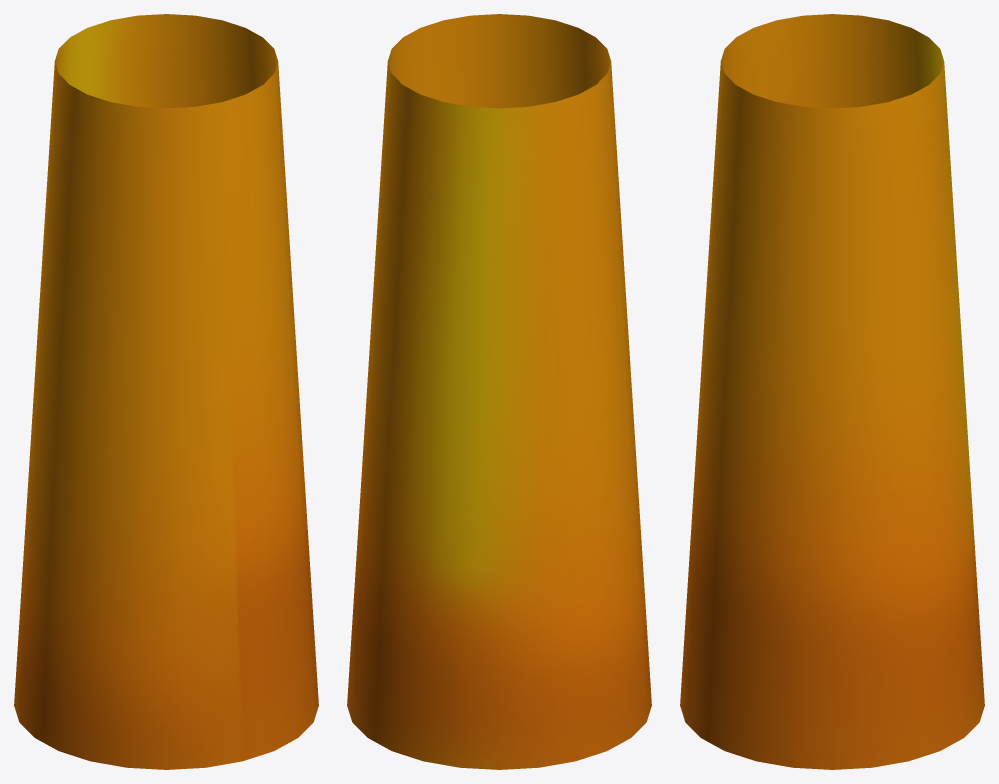
Rendered from platform-pole-upper.glb.
3 views of the same model, side by side, from view 1: azimuth 30°, elevation 25°; view 2: azimuth 150°, elevation 25°; view 3: azimuth 270°, elevation 25° (orthographic).
Visible parts, largest first — view 1: platform-pole-upper; view 2: platform-pole-upper; view 3: platform-pole-upper.
Part boxes in pixels (x1=…): platform-pole-upper: x1=14, y1=14, x2=318, y2=769; platform-pole-upper: x1=347, y1=14, x2=651, y2=769; platform-pole-upper: x1=680, y1=14, x2=984, y2=769.
Bounding box in the file's own units: 0.7195 × 1.68 × 0.7195.
Materials: 1 (1 with a texture image).
